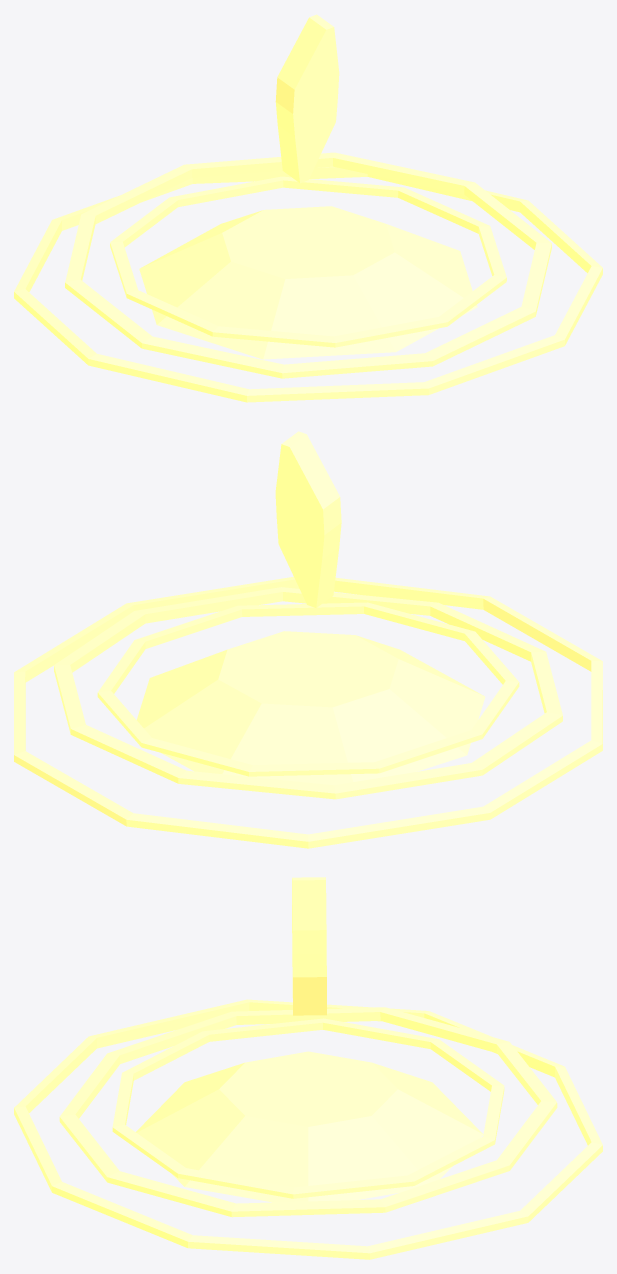
The model's file is grace.glb.
3 views of the same model, one above another, from view 1: azimuth 30°, elevation 25°; view 2: azimuth 150°, elevation 25°; view 3: azimuth 270°, elevation 25° (orthographic). The views are drawn at different scales.
Visible parts, largest first — view 1: Grace.132; view 2: Grace.132; view 3: Grace.132.
Boxes of the visible parts, <box> form: Grace.132: <box>14,14,602,402</box>; Grace.132: <box>14,431,602,848</box>; Grace.132: <box>14,877,602,1259</box>.
Bounding box in the file's own units: 0.0517 × 0.0265 × 0.0526.
